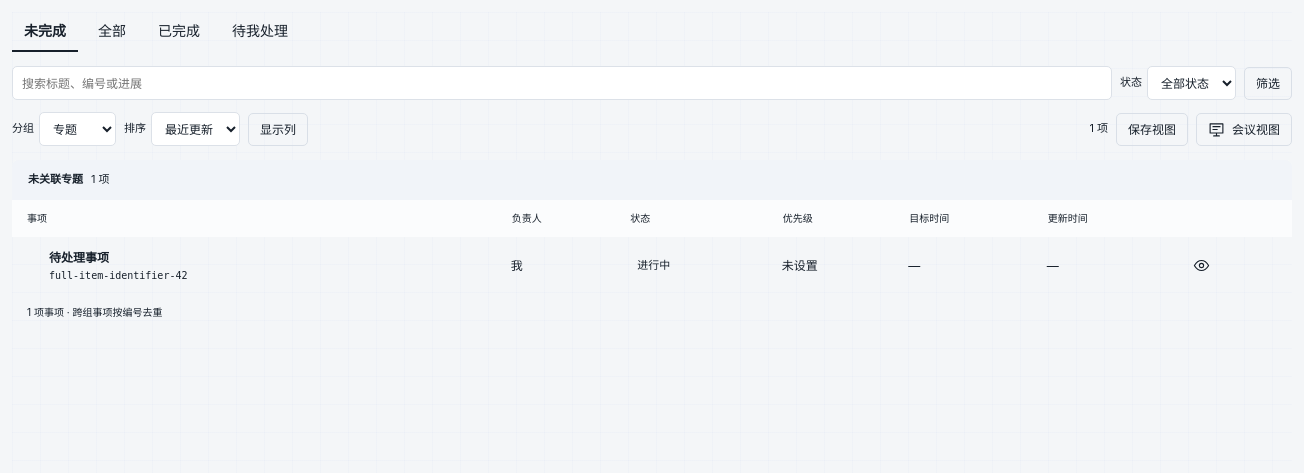
Test case: 事项列表交互 › 低频筛选默认收起，保存时明确列出仍然生效的筛选
Type "待处理" into the search field named "搜索事项" at [562, 83], box [12,66,1112,100]
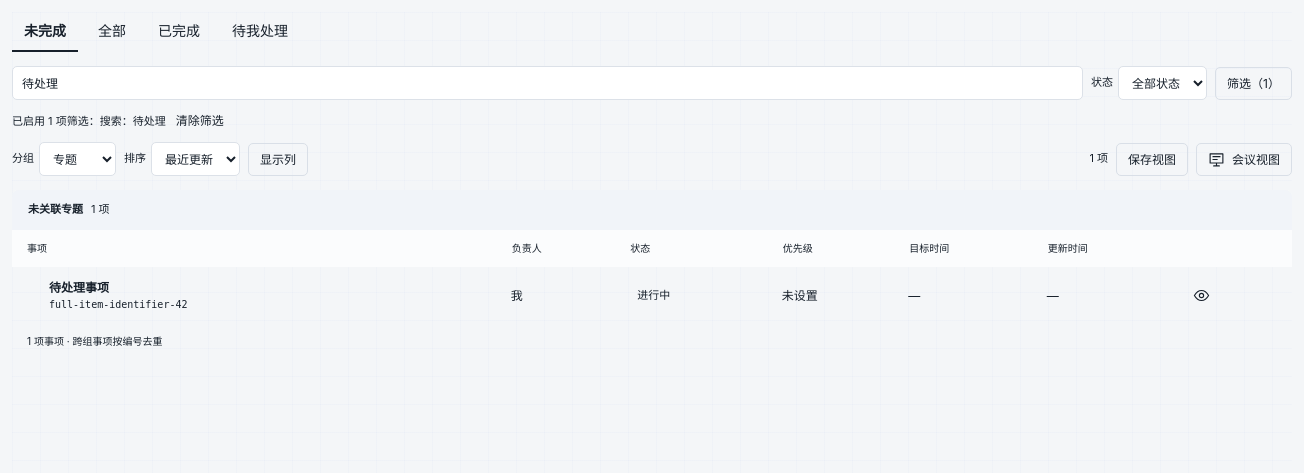
Select "进行中" in the dropdown named "筛选状态" at [1163, 83], box [1118,66,1207,100]
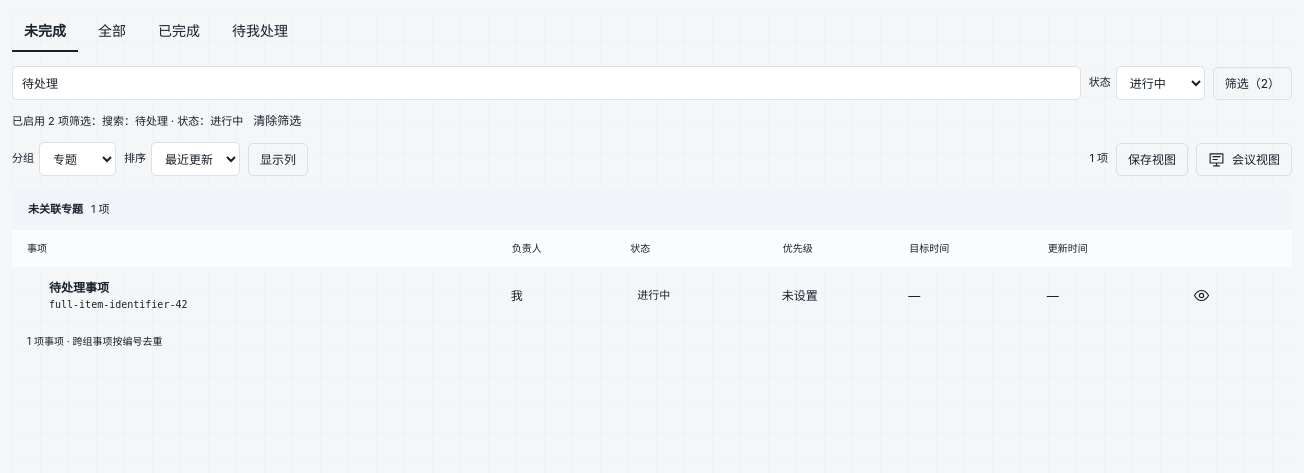
Click the button "筛选（2）" at [1252, 83], box [1213,67,1292,100]
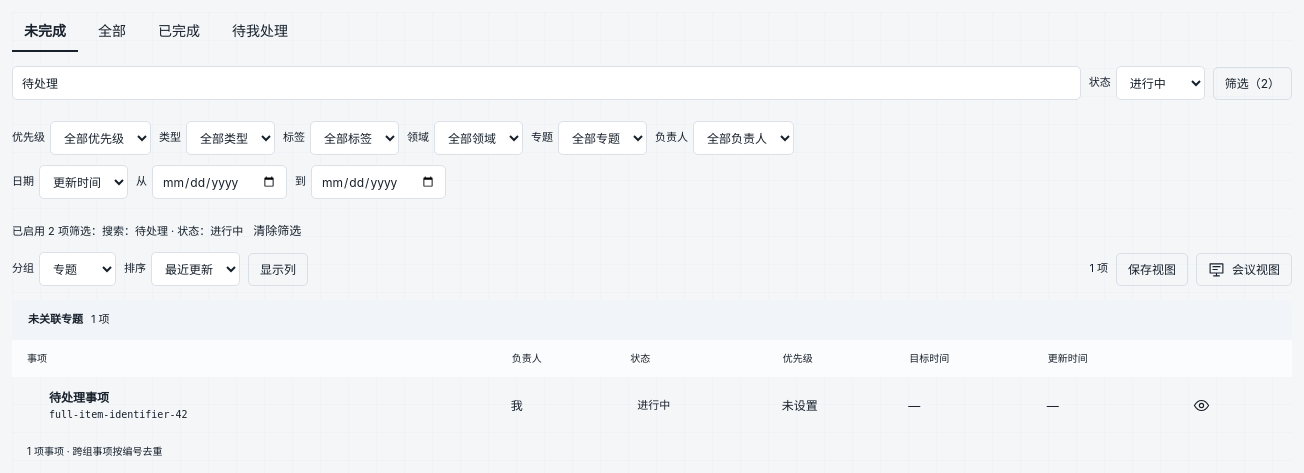
Select "未设置" in the dropdown named "筛选优先级" at [100, 138], box [50,121,151,155]
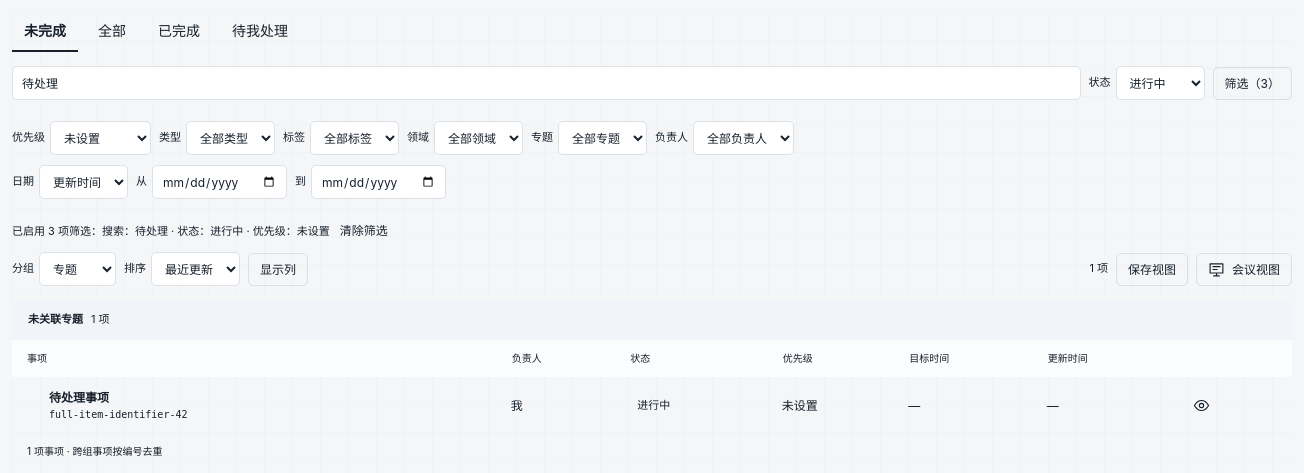
Check: the text "已启用 3 项筛选：搜索：待处理 · 状态：进行中 · 优先级：未设置" is shown, box [12,224,330,240]
Click the button "筛选（3）" at [1252, 83], box [1213,67,1292,100]
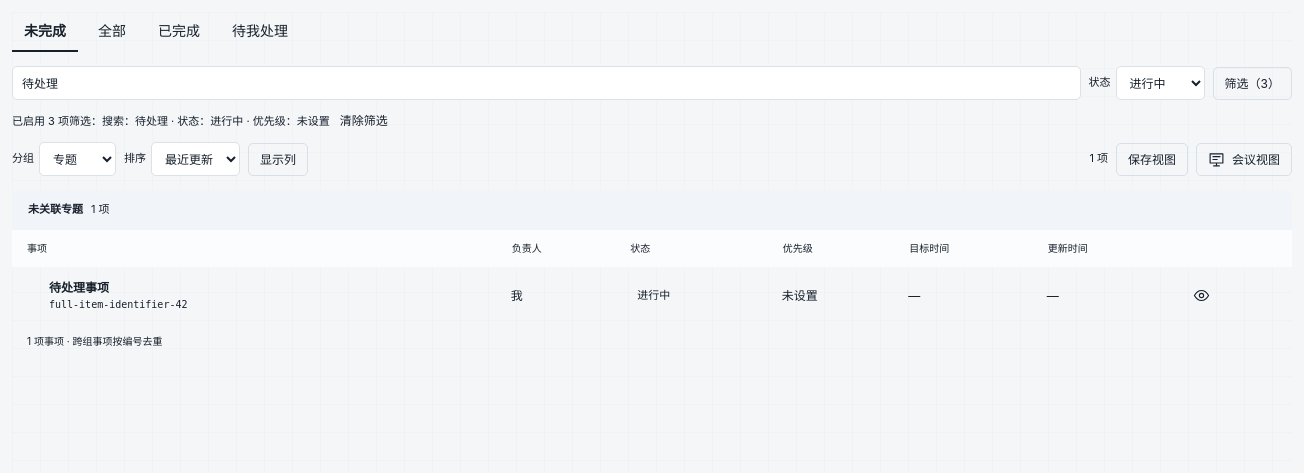
Check: the link "待处理事项" is shown, box [49,280,109,295]
Check: the dropdown labelled "筛选优先级" is gone
Click the button "保存视图" at [1152, 159], box [1116,143,1188,176]
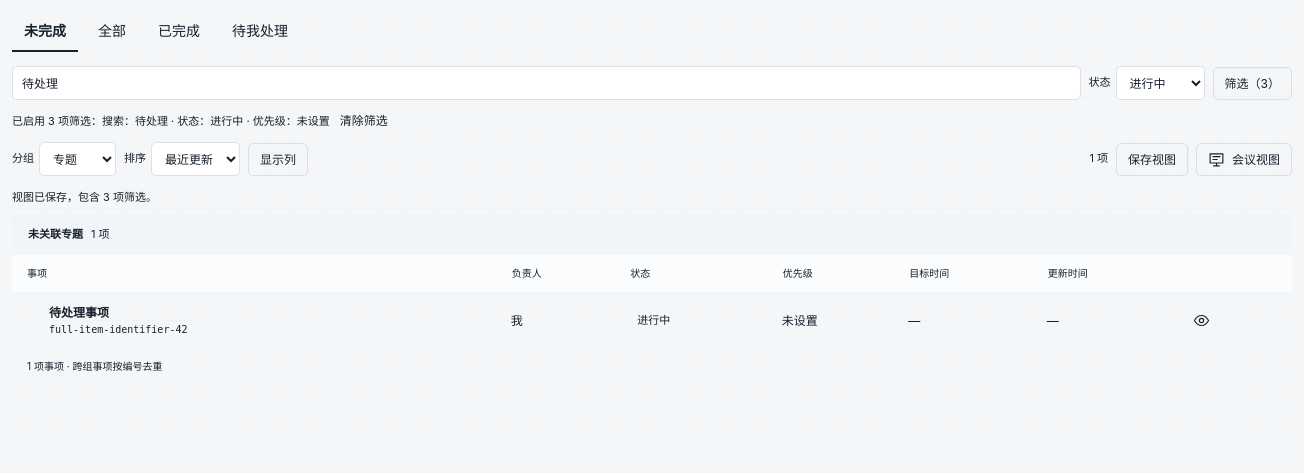
Check: the text "视图已保存，包含 3 项筛选。" is shown, box [12,190,157,204]
